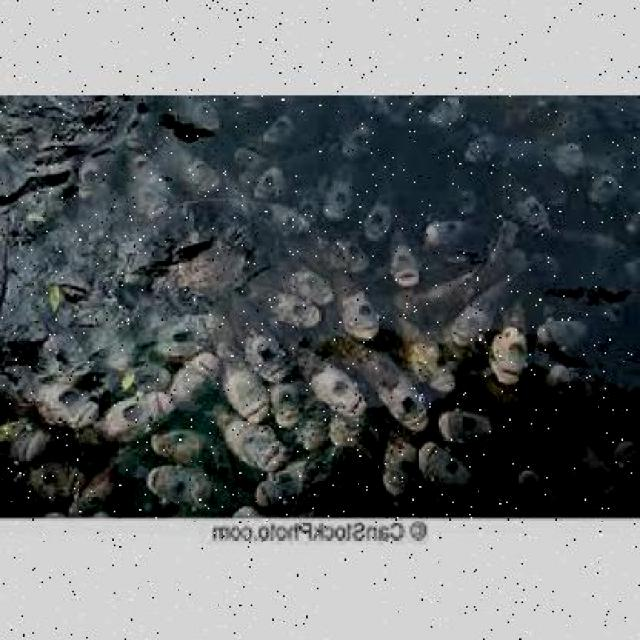gurame: (358, 342, 430, 430), (298, 341, 370, 407), (448, 271, 506, 347), (208, 416, 288, 470), (409, 326, 468, 388), (146, 464, 223, 510), (220, 348, 272, 416), (491, 302, 531, 387), (334, 278, 389, 337), (420, 441, 482, 488), (274, 258, 336, 304), (256, 464, 326, 502), (435, 404, 503, 442), (387, 226, 422, 294), (320, 166, 360, 225), (512, 460, 560, 506), (420, 210, 478, 248), (268, 293, 320, 335), (382, 427, 412, 490), (364, 186, 396, 242)
